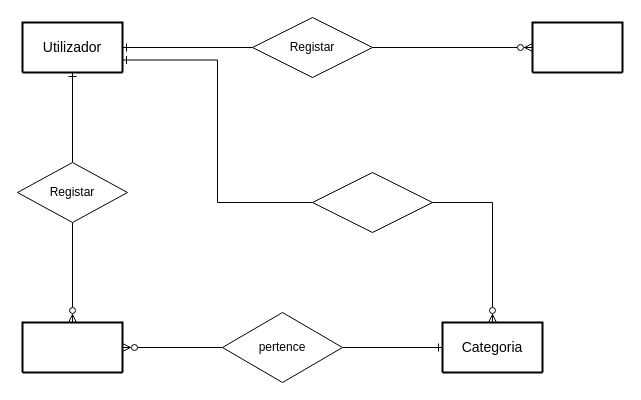
Some shapes in this 641 by 400 pixel diagram are drawn without their labels. Here are the shapes that lost their labels. From the top down, the centre of each, then its label:
pixel 577 47: Receita
pixel 372 202: adicionar
pixel 72 347: Despesa
